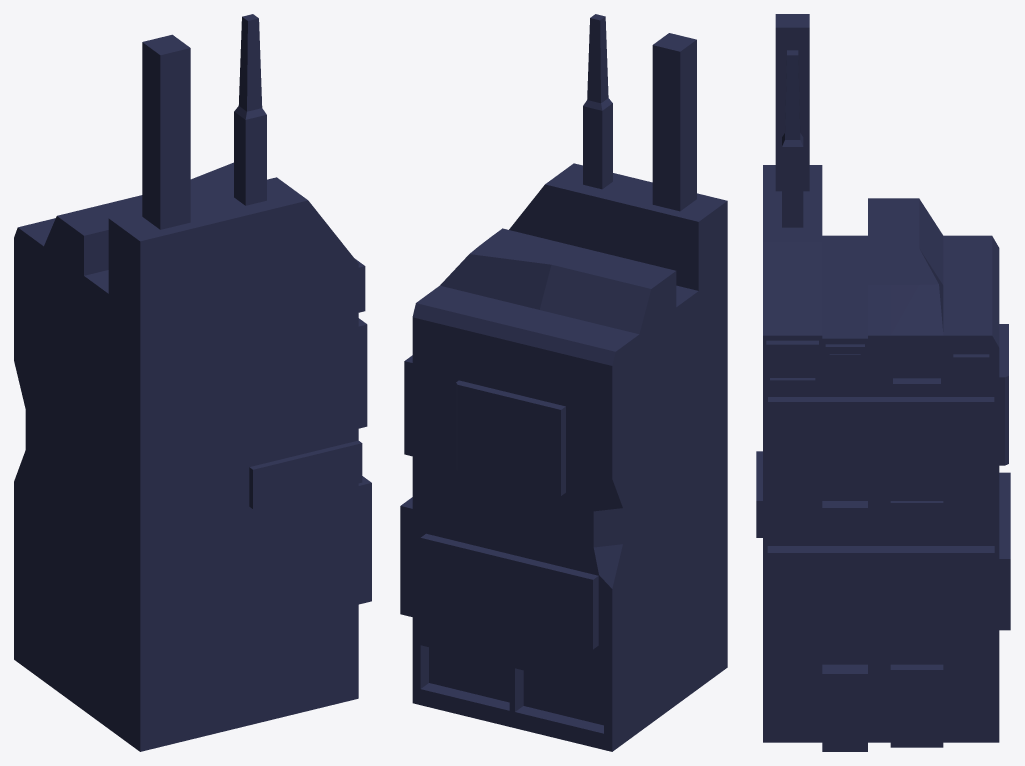
The model's file is Building.gltf.
3 renders of one model, left to right at view 1: azimuth 30°, elevation 25°; view 2: azimuth 150°, elevation 25°; view 3: azimuth 270°, elevation 25°, orthographic. The views are drawn at different scales.
Visible parts, largest first — view 1: Cube; view 2: Cube; view 3: Cube.
Part boxes in pixels (<box>): Cube: <box>14,14,371,751</box>; Cube: <box>400,14,727,751</box>; Cube: <box>756,14,1010,751</box>.
Bounding box in the file's own units: 3.7 × 10.24 × 3.64.
